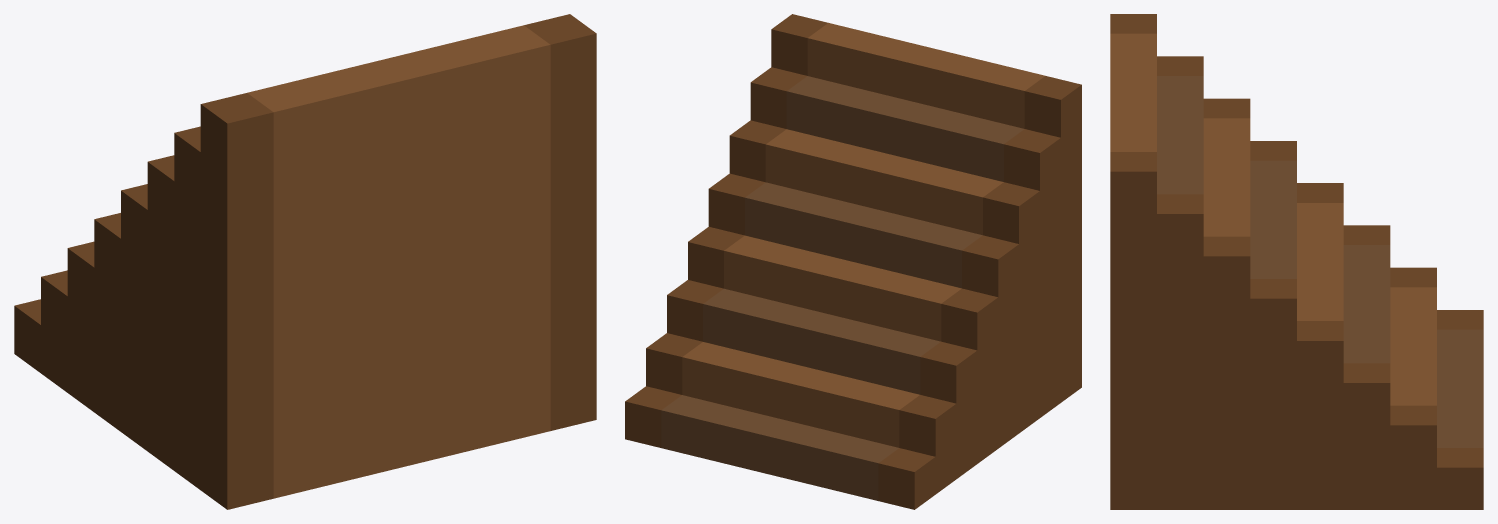
Rendered from piece_stairs_voxel.fbx.
The picture shows the model from 3 angles, left to right: view 1: azimuth 30°, elevation 25°; view 2: azimuth 150°, elevation 25°; view 3: azimuth 270°, elevation 25°; orthographic projection. The views are drawn at different scales.
Visible parts, largest first — view 1: piece_stairs_voxel; view 2: piece_stairs_voxel; view 3: piece_stairs_voxel.
Part boxes in pixels (left/top/right/bottom): piece_stairs_voxel: left=14, top=14, right=596, bottom=509; piece_stairs_voxel: left=625, top=14, right=1081, bottom=509; piece_stairs_voxel: left=1110, top=14, right=1483, bottom=509.
Bounding box in the file's own units: 2 × 2 × 2.
